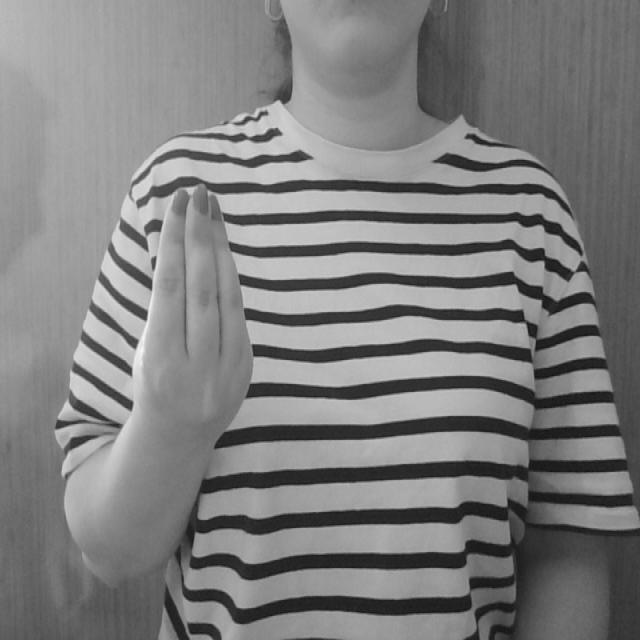iyi: (130, 182, 256, 396)
